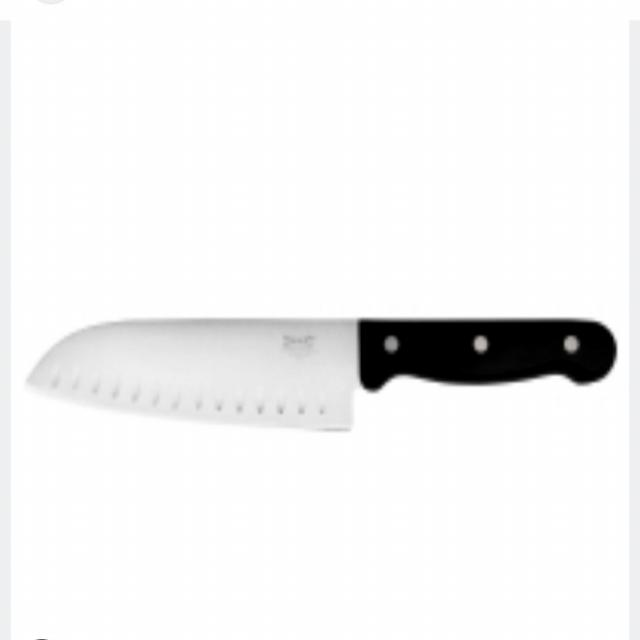knife: (19, 291, 638, 455)
